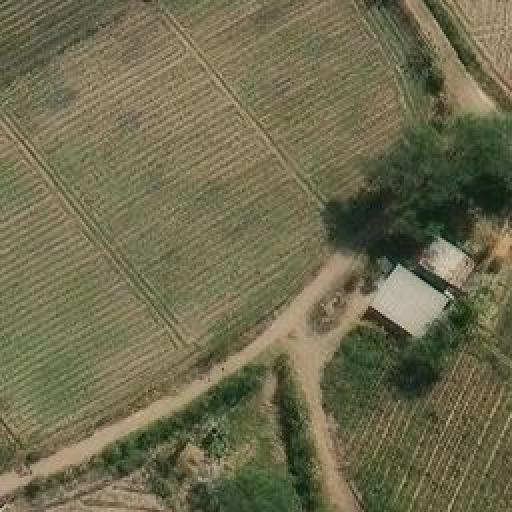manzanas: (361, 223, 483, 345)
